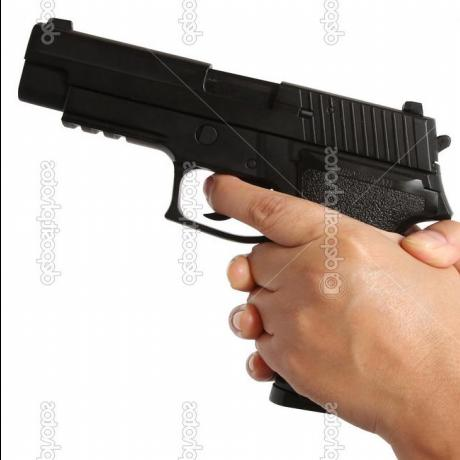1: (202, 174, 460, 460)
weapon: (15, 16, 456, 248)
